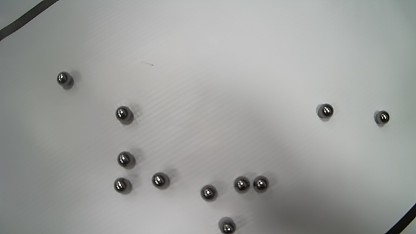ironball: (115, 105, 133, 124), (113, 177, 131, 194), (152, 172, 169, 189), (117, 151, 134, 168), (56, 71, 73, 88), (200, 184, 216, 201), (219, 218, 235, 234), (234, 176, 249, 193), (253, 175, 268, 192), (317, 103, 333, 118), (375, 110, 390, 124)
